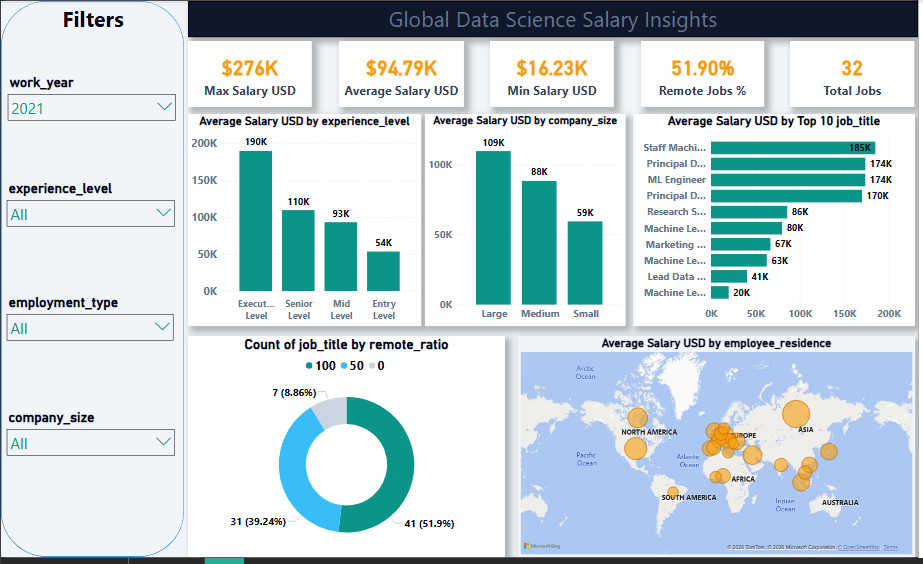

What the dashboard file says about the page in this screenshot:
{"tool":"powerbi","page":{"name":"Page 1","canvas":[1600,970],"ordinal":0},"visuals":[{"type":"textbox","box":[326.3,0,1273.7,62.8],"z":0},{"type":"card","fields":{"Values":["Salary.Max Salary USD"]},"box":[326.3,69.8,216.4,115.2],"z":1000},{"type":"card","fields":{"Values":["Salary.Remote Jobs %"]},"box":[1116.7,69.8,214.6,115.2],"z":2000},{"type":"card","fields":{"Values":["Salary.Average Salary USD"]},"box":[589.7,69.8,218.1,115.2],"z":3000},{"type":"card","fields":{"Values":["Salary.Min Salary USD"]},"box":[853.2,69.8,216.4,115.2],"z":4000},{"type":"card","fields":{"Values":["Salary.Total Jobs"]},"box":[1376.1,69.6,217.4,115.2],"z":5000},{"type":"clusteredColumnChart","fields":{"Category":["Salary.experience_level"],"Y":["Salary.Average Salary USD"]},"box":[326.3,197.2,406.5,369.9],"z":6000},{"type":"clusteredBarChart","title":"Average Salary USD by Top 10 job_title","fields":{"Category":["Salary.job_title"],"Y":["Salary.Average Salary USD"]},"box":[1102.7,197.2,492,369.9],"z":7000},{"type":"clusteredColumnChart","fields":{"Category":["Salary.company_size"],"Y":["Salary.Average Salary USD"]},"box":[739.1,197.8,350,369.6],"z":8000},{"type":"donutChart","fields":{"Y":["CountNonNull(Salary.job_title)"],"Category":["Salary.remote_ratio"]},"box":[326.3,584.5,553.1,385.6],"z":9000},{"type":"map","fields":{"Category":["Salary.employee_residence"],"Size":["Salary.Average Salary USD"]},"box":[902.1,584.5,692.7,385.6],"z":10000},{"type":"shape","box":[0,0,319.4,970],"z":10500},{"type":"slicer","fields":{"Values":["Salary.work_year"]},"box":[2.2,123.9,313,119.6],"z":11000},{"type":"slicer","fields":{"Values":["Salary.employment_type"]},"box":[0,508,310.9,134.8],"z":12000},{"type":"slicer","fields":{"Values":["Salary.company_size"]},"box":[0,708.7,313,137],"z":13000},{"type":"slicer","fields":{"Values":["Salary.experience_level"]},"box":[0,309.4,313,132.6],"z":14000},{"type":"textbox","box":[54.1,0,212.9,97.7],"z":14001}]}

Visuals, with their boxes in screenshot pixels (x1, y1, x2, y2), scaled from the page's 1600x970 canvas onto the 923x564 screenshot:
textbox: 188,0,922,37
card - Salary.Max Salary USD: 188,41,313,108
card - Salary.Remote Jobs %: 644,41,768,108
card - Salary.Average Salary USD: 340,41,466,108
card - Salary.Min Salary USD: 492,41,617,108
card - Salary.Total Jobs: 794,40,919,107
clusteredColumnChart - Salary.experience_level x Salary.Average Salary USD: 188,115,423,330
"Average Salary USD by Top 10 job_title" clusteredBarChart: 636,115,920,330
clusteredColumnChart - Salary.company_size x Salary.Average Salary USD: 426,115,628,330
donutChart - CountNonNull(Salary.job_title) x Salary.remote_ratio: 188,340,507,563
map - Salary.employee_residence x Salary.Average Salary USD: 520,340,920,563
shape: 0,0,184,563
slicer - Salary.work_year: 1,72,182,142
slicer - Salary.employment_type: 0,295,179,374
slicer - Salary.company_size: 0,412,181,492
slicer - Salary.experience_level: 0,180,181,257
textbox: 31,0,154,57
